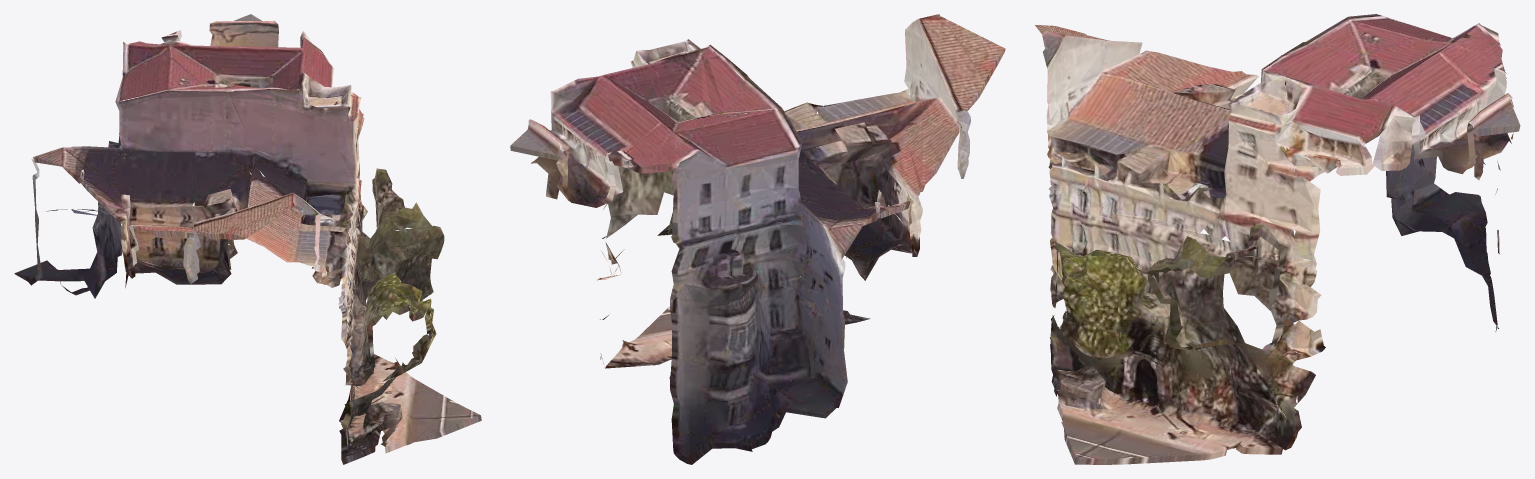
3 views of the same model, side by side, from view 1: azimuth 30°, elevation 25°; view 2: azimuth 150°, elevation 25°; view 3: azimuth 270°, elevation 25° (orthographic). The views are drawn at different scales.
Visible parts, largest first — view 1: Mesh_0; view 2: Mesh_0; view 3: Mesh_0.
Boxes of the visible parts, <box> form: Mesh_0: <box>14,14,481,464</box>; Mesh_0: <box>510,14,1005,464</box>; Mesh_0: <box>1035,14,1520,464</box>.
Size of the model in its own units: 33.26 by 32.4 by 41.48.
Materials: 1 (1 with a texture image).
